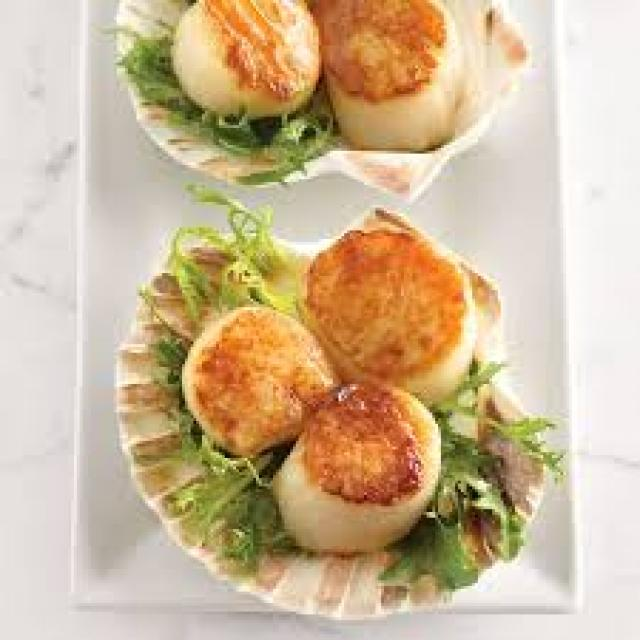Spinach bagged/loose: (307, 232, 474, 378), (323, 0, 460, 149), (324, 379, 435, 544), (184, 308, 305, 453), (174, 0, 314, 112)
